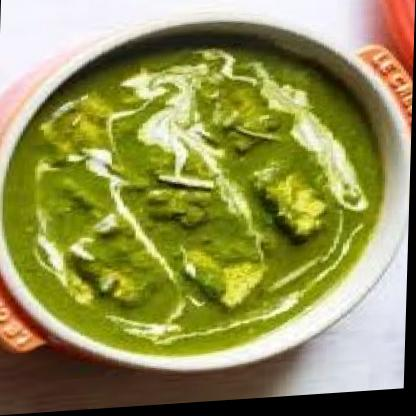palak_paneer: (0, 27, 388, 370)
